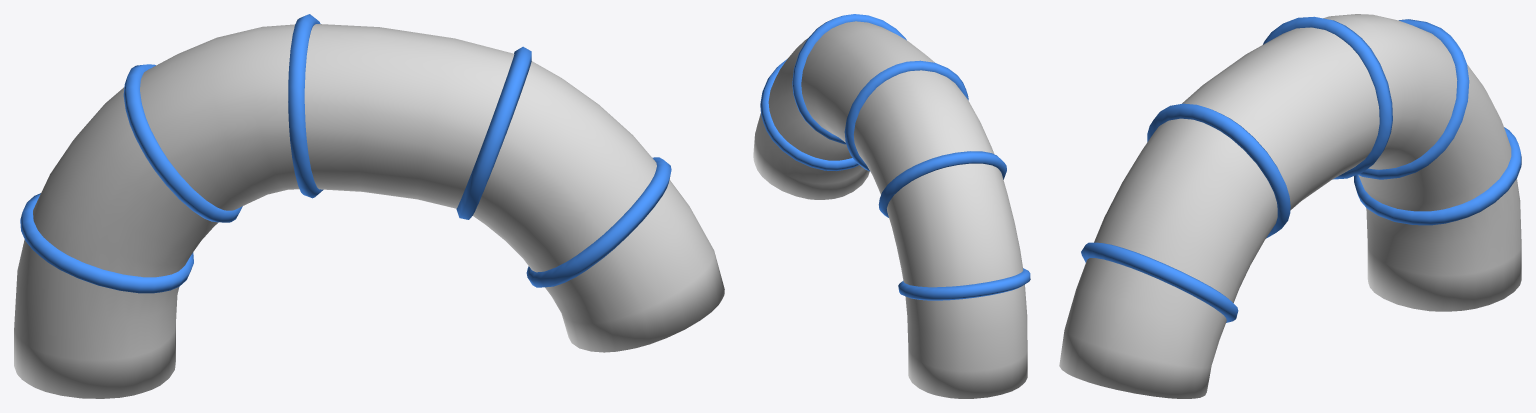
Rendered from Map_Spiral.fbx.
3 views of the same model, side by side, from view 1: azimuth 30°, elevation 25°; view 2: azimuth 150°, elevation 25°; view 3: azimuth 270°, elevation 25° (orthographic). The views are drawn at different scales.
Parts seen in each view (by area): view 1: Spiral_Body, Spiral_Rings; view 2: Spiral_Body, Spiral_Rings; view 3: Spiral_Body, Spiral_Rings.
Part boxes in pixels (left/top/right/bottom): Spiral_Body: left=14, top=24, right=724, bottom=398; Spiral_Rings: left=20, top=14, right=671, bottom=293; Spiral_Body: left=753, top=21, right=1027, bottom=398; Spiral_Rings: left=760, top=14, right=1030, bottom=300; Spiral_Body: left=1059, top=14, right=1521, bottom=398; Spiral_Rings: left=1081, top=16, right=1521, bottom=322.
Size of the model in its own units: 1659 by 1069 by 1371.
